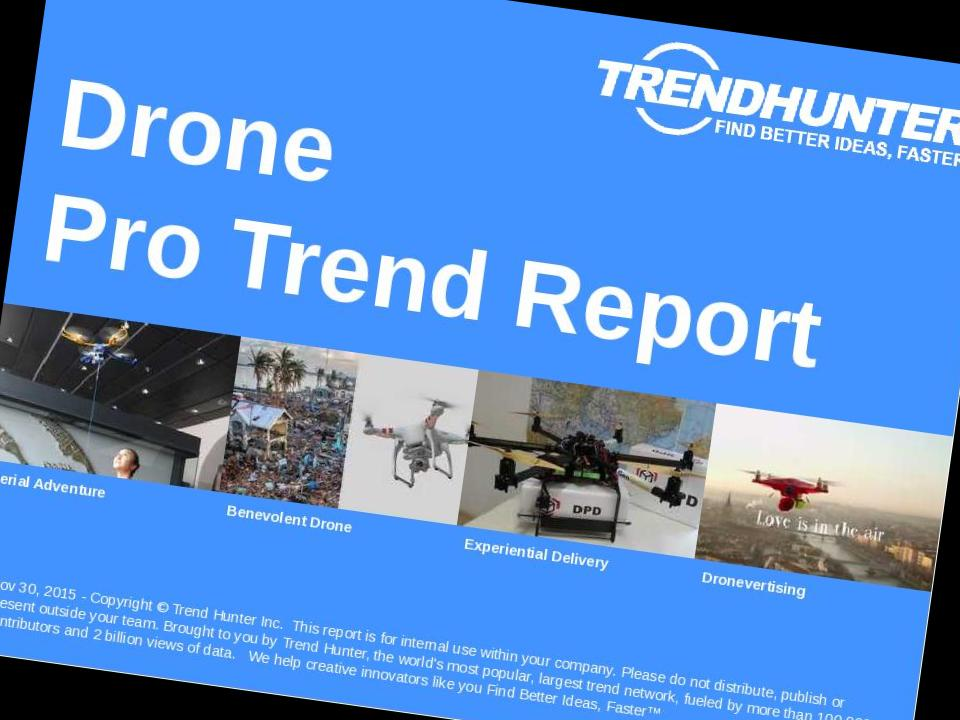drone: (452, 396, 722, 528), (348, 379, 485, 491), (735, 458, 842, 526), (50, 314, 154, 382)
